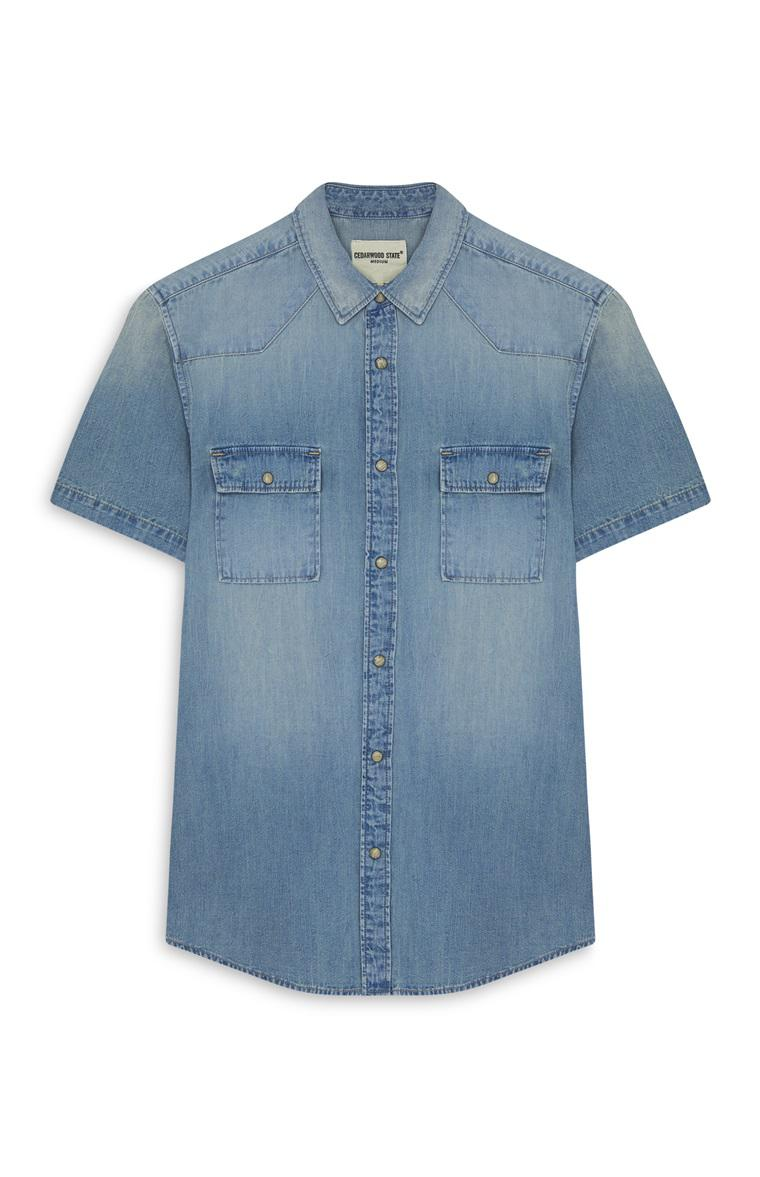teeshirt: (52, 174, 734, 1051)
